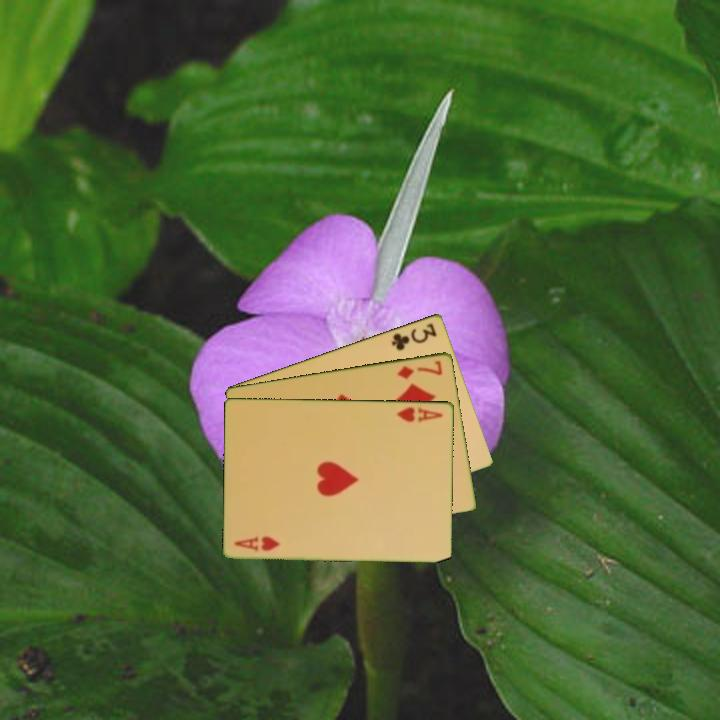3c: (388, 319, 440, 353)
7d: (394, 357, 445, 382)
Ah: (393, 403, 446, 425), (231, 533, 283, 554)
